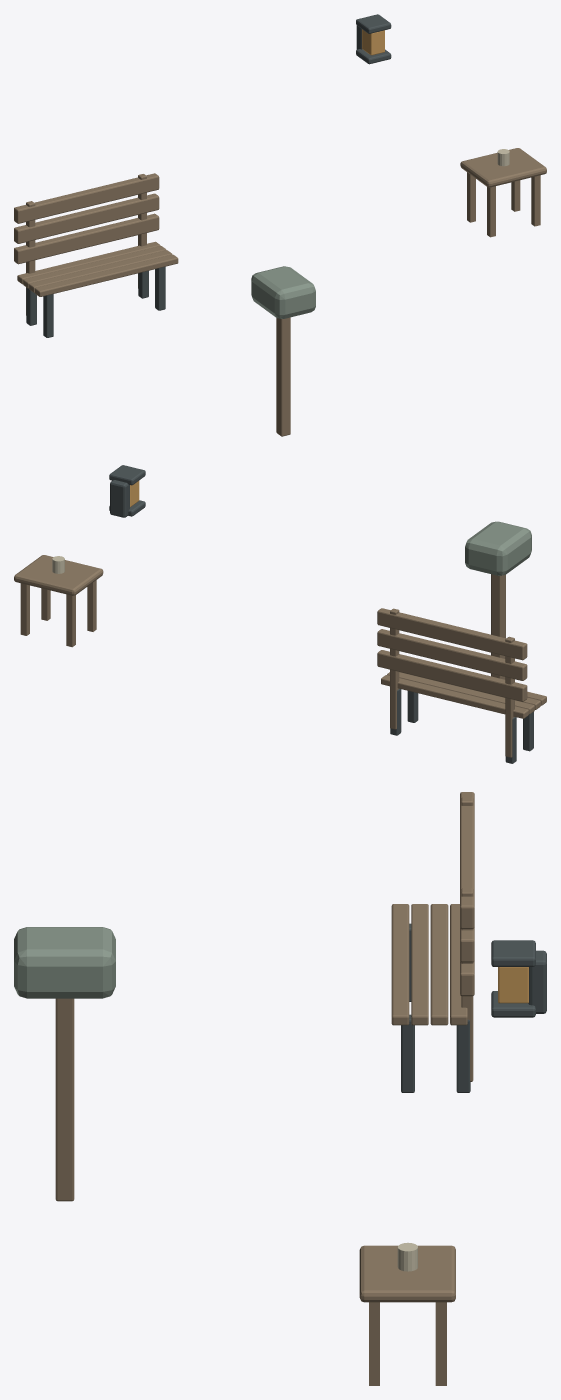
Rendered from SM_ConspiracyHouse_Props.fbx.
3 views of the same model, one above another, from view 1: azimuth 30°, elevation 25°; view 2: azimuth 150°, elevation 25°; view 3: azimuth 270°, elevation 25° (orthographic). The views are drawn at different scales.
Visible parts, largest first — view 1: EXPORT_Mailbox, EXPORT_Bench_Back.002, EXPORT_Bench_Back.001, EXPORT_Bench_Back, EXPORT_Porch_SideTable, EXPORT_Mailbox_Post, EXPORT_Bench_Seat, EXPORT_Bench_Seat.002, EXPORT_Bench_Seat.001, EXPORT_Bench_Seat.003; view 2: EXPORT_Mailbox, EXPORT_Bench_Back.001, EXPORT_Bench_Back, EXPORT_Bench_Back.002, EXPORT_Porch_SideTable, EXPORT_Bench_Seat.003, EXPORT_Mailbox_Post, EXPORT_Bench_Seat.002, EXPORT_Porch_Lantern_Back, EXPORT_Bench_Back_Support, EXPORT_Bench_Back_Support.001, EXPORT_SideTable_Leg.001 (+4 smaller); view 3: EXPORT_Mailbox, EXPORT_Porch_SideTable, EXPORT_Mailbox_Post, EXPORT_Bench_Seat.002, EXPORT_Bench_Seat, EXPORT_Bench_Seat.001, EXPORT_Bench_Back.002, EXPORT_Bench_Seat.003, EXPORT_Lantern_Cap.001, EXPORT_Porch_Lantern_Glass, EXPORT_SideTable_Leg.003, EXPORT_Bench_Leg.002 (+4 smaller).
Part boxes in pixels (x1,y1,x2,y2): EXPORT_Mailbox: (251, 266, 315, 318); EXPORT_Bench_Back.002: (14, 173, 159, 223); EXPORT_Bench_Back.001: (14, 193, 159, 243); EXPORT_Bench_Back: (14, 213, 159, 264); EXPORT_Porch_SideTable: (460, 148, 546, 187); EXPORT_Mailbox_Post: (276, 317, 290, 436); EXPORT_Bench_Seat: (35, 254, 178, 296); EXPORT_Bench_Seat.002: (23, 246, 166, 288); EXPORT_Bench_Seat.001: (29, 250, 172, 292); EXPORT_Bench_Seat.003: (17, 241, 160, 284); EXPORT_Mailbox: (465, 521, 531, 575); EXPORT_Bench_Back.001: (377, 629, 527, 680); EXPORT_Bench_Back: (377, 650, 527, 701); EXPORT_Bench_Back.002: (377, 608, 527, 660); EXPORT_Porch_SideTable: (14, 555, 103, 595); EXPORT_Bench_Seat.003: (381, 675, 528, 718); EXPORT_Mailbox_Post: (491, 574, 505, 679); EXPORT_Bench_Seat.002: (387, 672, 534, 714); EXPORT_Porch_Lantern_Back: (110, 480, 129, 517); EXPORT_Bench_Back_Support: (505, 636, 514, 757); EXPORT_Bench_Back_Support.001: (390, 608, 399, 729); EXPORT_SideTable_Leg.001: (66, 594, 75, 647); EXPORT_Mailbox: (14, 927, 115, 998); EXPORT_Porch_SideTable: (359, 1245, 455, 1302); EXPORT_Mailbox_Post: (55, 998, 74, 1201); EXPORT_Bench_Seat.002: (430, 904, 448, 1025); EXPORT_Bench_Seat: (391, 904, 409, 1025); EXPORT_Bench_Seat.001: (411, 904, 428, 1025); EXPORT_Bench_Back.002: (460, 792, 474, 928); EXPORT_Bench_Seat.003: (450, 904, 467, 1025); EXPORT_Lantern_Cap.001: (491, 940, 535, 966); EXPORT_Porch_Lantern_Glass: (498, 967, 528, 1003); EXPORT_SideTable_Leg.003: (435, 1302, 446, 1385); EXPORT_Bench_Leg.002: (401, 1014, 414, 1092).
Size of the model in its own units: 518 by 288 by 257.
